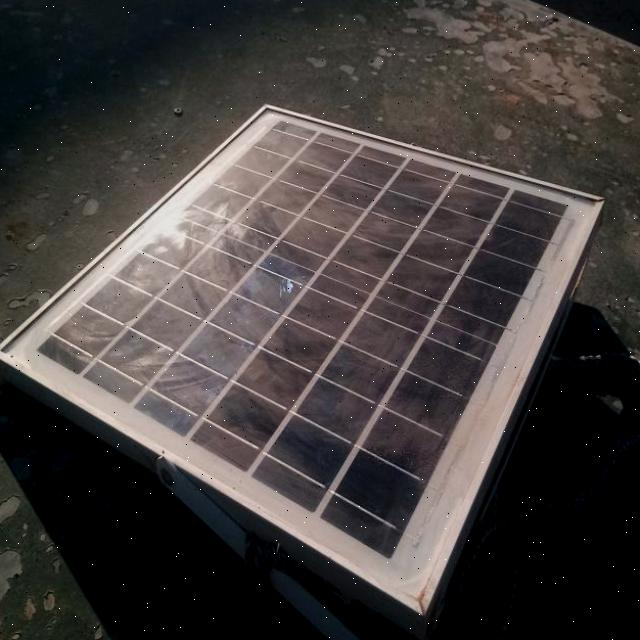Surface Contaminant: (38, 119, 569, 559)
